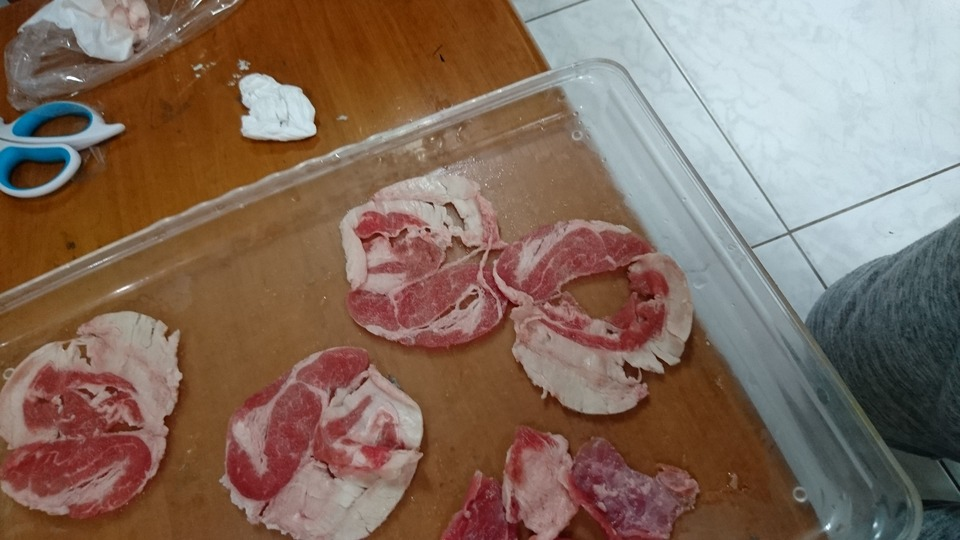restructured meat: (512, 205, 701, 424), (1, 309, 189, 528), (223, 342, 432, 538), (336, 166, 508, 354), (448, 424, 701, 540)
